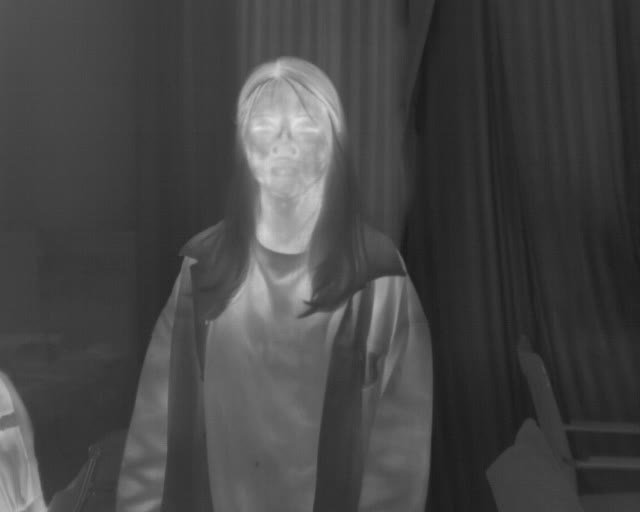face: (240, 56, 343, 200)
